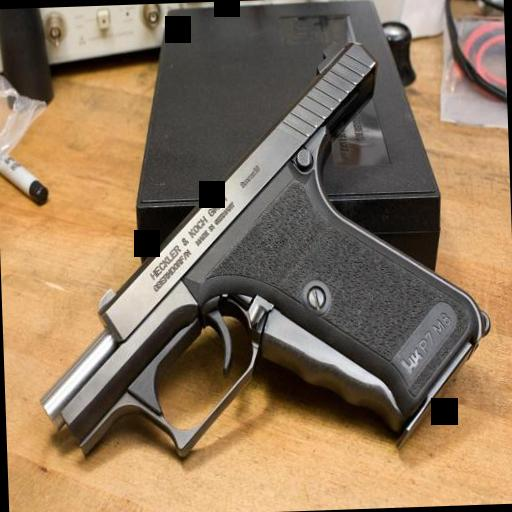Handgun: (24, 17, 492, 481)
